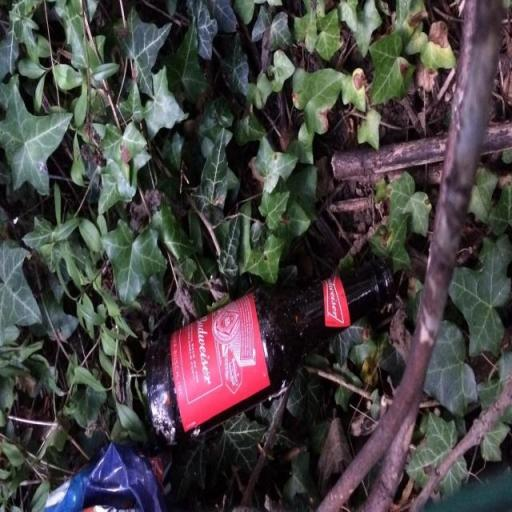glass: (82, 234, 416, 460)
